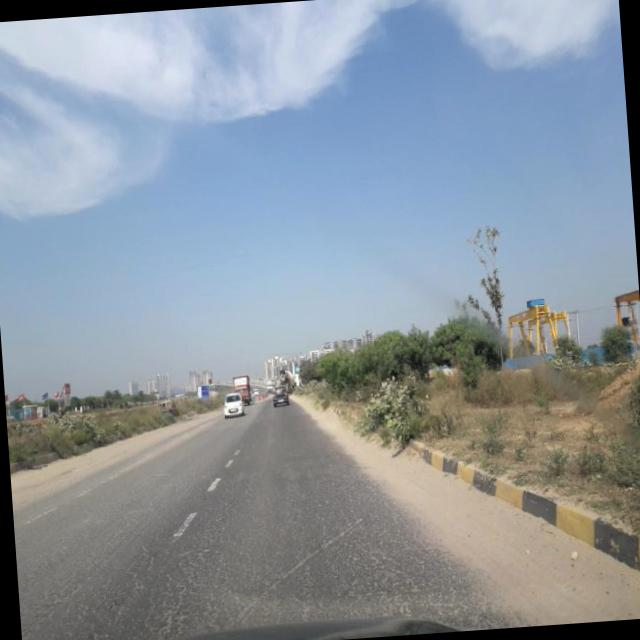crack: (11, 446, 477, 640)
